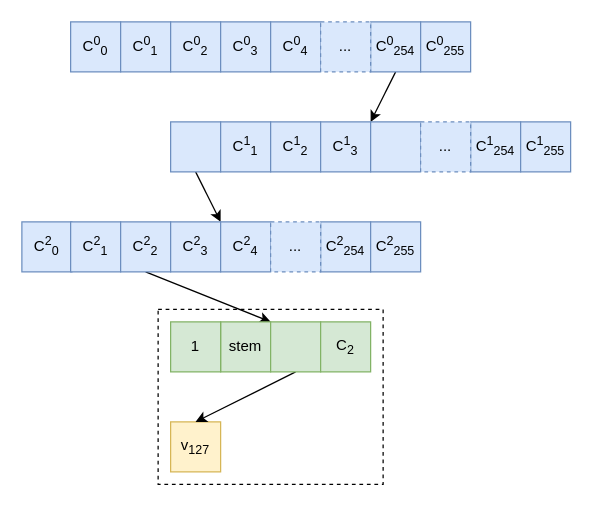
This 593x506 diagram has some shape labels left out. Here are the shapes that lost their labels. From the top down, the centre of each, then its label:
At (x=195, y=146): "C 1 0".
At (x=395, y=146): "C 1 4".
At (x=295, y=346): "C 1".
